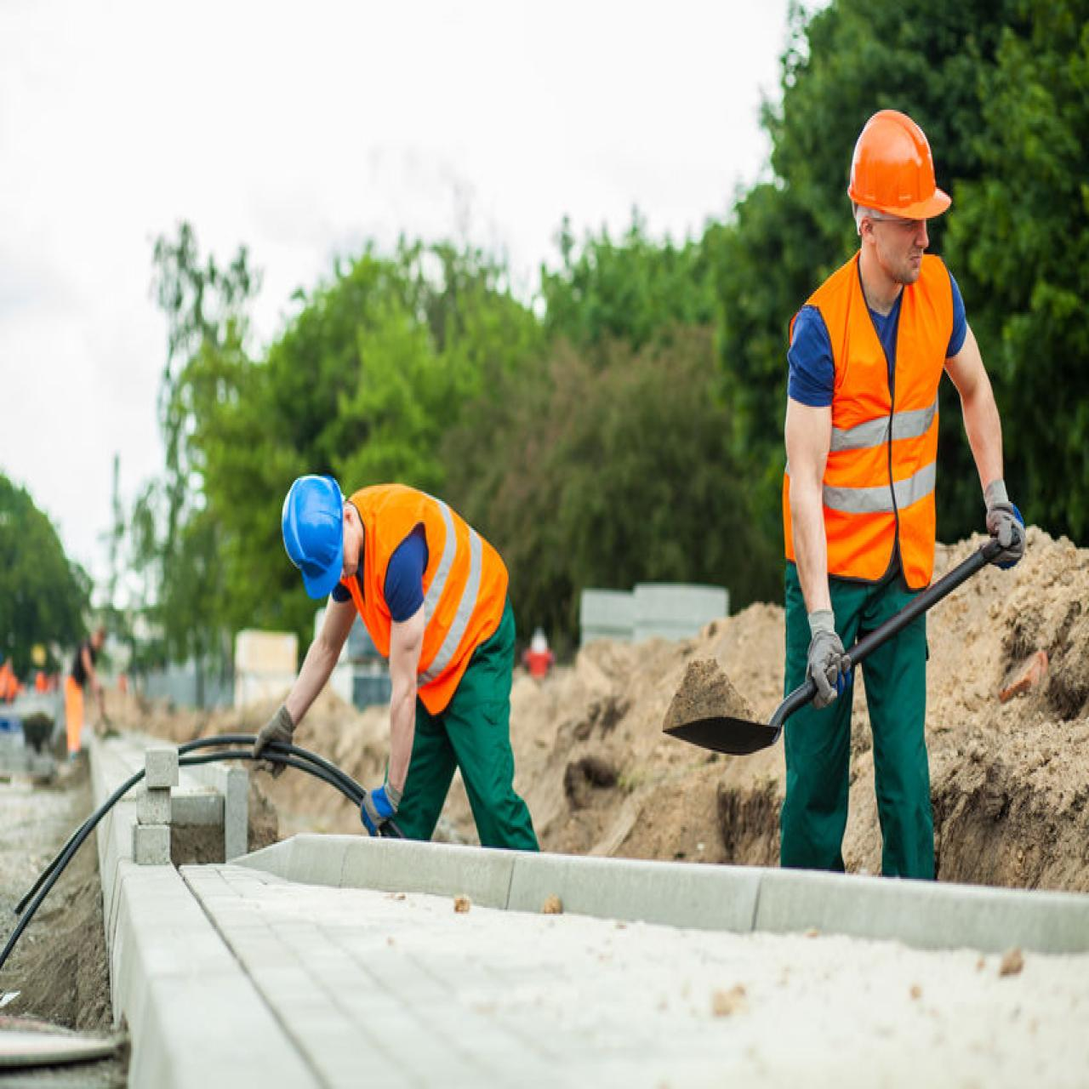Person: (758, 60, 1048, 898), (267, 456, 551, 850)
Safety_Vest: (790, 257, 951, 602), (348, 487, 513, 701)
